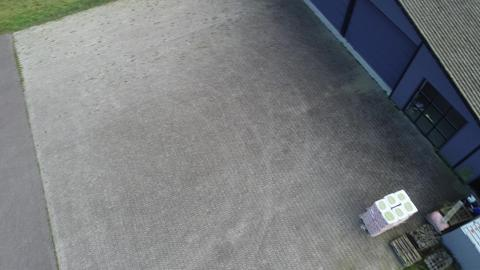RockwoolPallet: (361, 189, 420, 239)
